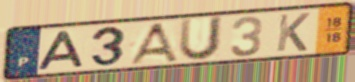3: (88, 24, 131, 68), (228, 15, 264, 58)
A: (126, 21, 181, 66), (35, 29, 87, 72)
K: (275, 12, 313, 53)
U: (176, 14, 227, 63)
